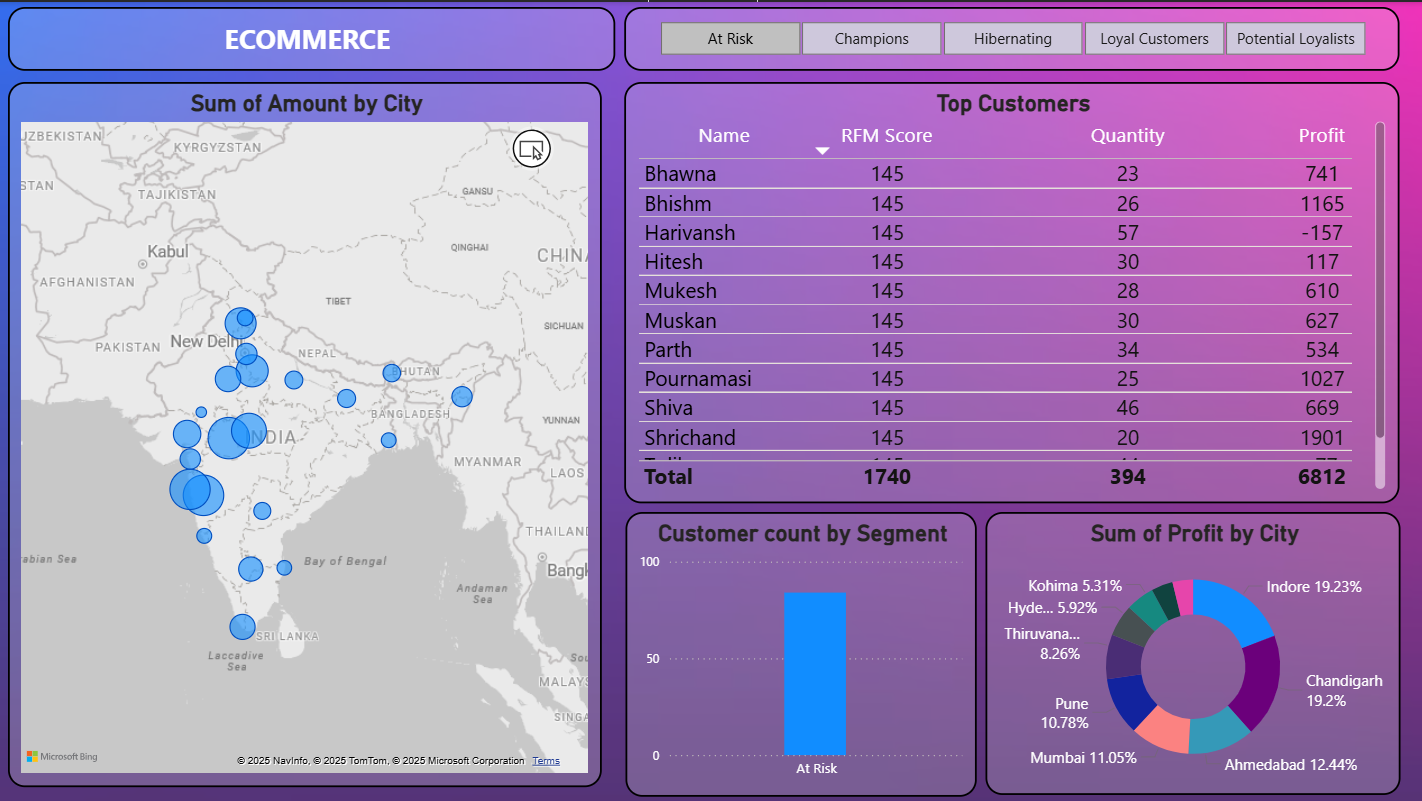

The dashboard page shown, as its layout file describes it:
{"tool":"powerbi","page":{"name":"Page 2","canvas":[1280,720],"ordinal":1},"visuals":[{"type":"textbox","box":[9.3,4.7,540.7,57],"z":0},{"type":"columnChart","title":"Customer count by Segment","fields":{"Category":["RFMTable.CustomerSegment"],"Y":["RFMTable.CustomerName"]},"box":[558.5,454.3,312.8,253.5],"z":1000},{"type":"tableEx","title":"Top Customers","fields":{"Values":["RFMTable.CustomerName","RFMTable.RFMScore","Details.Quantity","Details.Profit"]},"box":[557.7,71.2,690.2,375.1],"z":2000},{"type":"map","fields":{"Category":["Orders.City"],"Size":["Details.Amount"]},"box":[9.3,70.9,529.1,627.9],"z":3000},{"type":"slicer","fields":{"Values":["RFMTable.CustomerSegment"]},"box":[558.1,4.7,690.7,57],"z":4000},{"type":"donutChart","fields":{"Y":["Details.Profit"],"Category":["Orders.City"]},"box":[879.4,454.3,369.8,252.3],"z":5000}]}

Visuals, with their boxes in screenshot pixels (x1, y1, x2, y2), scaled from the page's 1280x720 canvas onto the 1422x801 screenshot:
textbox: Rect(10, 5, 611, 69)
"Customer count by Segment" columnChart: Rect(620, 505, 968, 787)
"Top Customers" tableEx: Rect(620, 79, 1386, 497)
map - Orders.City x Details.Amount: Rect(10, 79, 598, 777)
slicer - RFMTable.CustomerSegment: Rect(620, 5, 1387, 69)
donutChart - Details.Profit x Orders.City: Rect(977, 505, 1388, 786)
